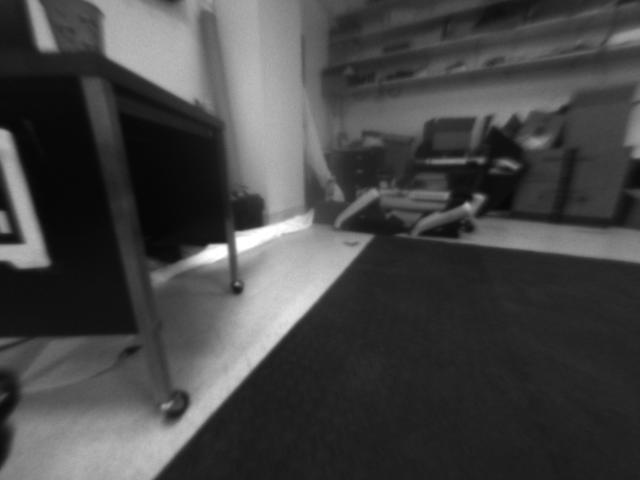coffee_cup: (41, 1, 104, 51)
